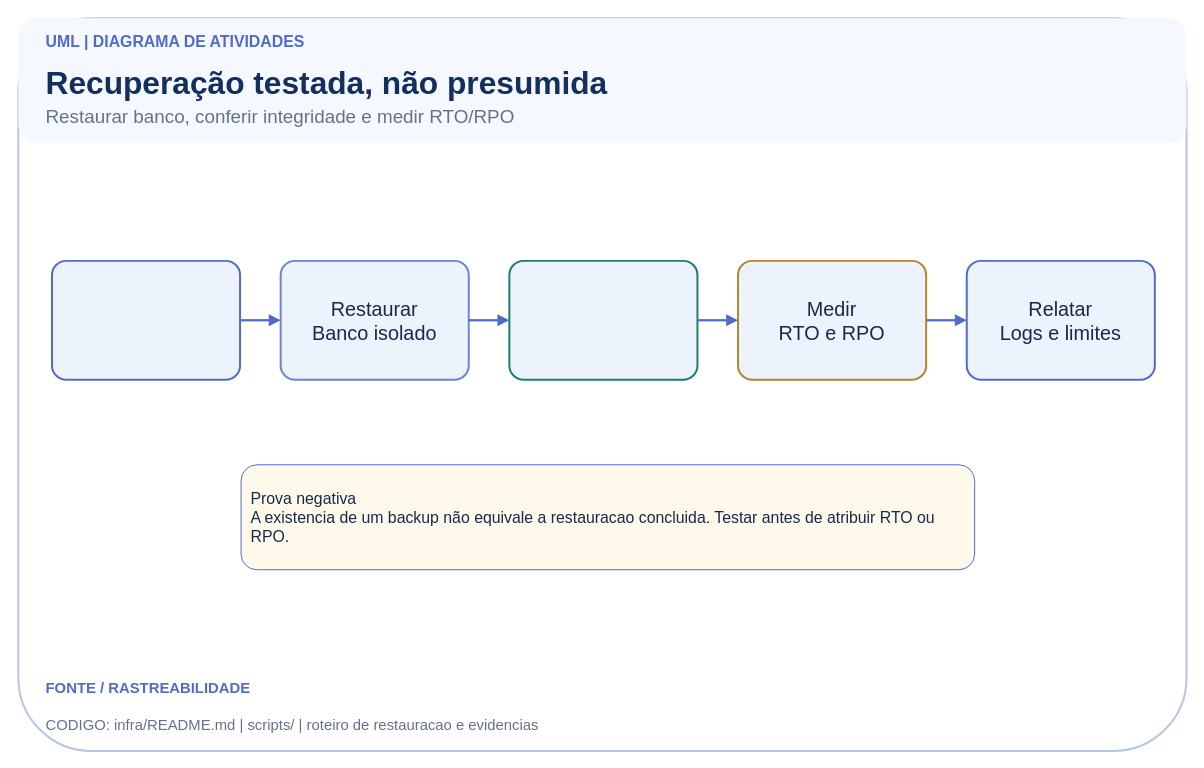
The diagram is 1204 pixels wide and 768 high, and some of its shapes have lost their labels. The centre of each missing label's shape, as x and y in pixels:
"Backup Arquivo e checksum" goes at pixel 145 319.
"Conferir Contagens e chaves" goes at pixel 603 319.
